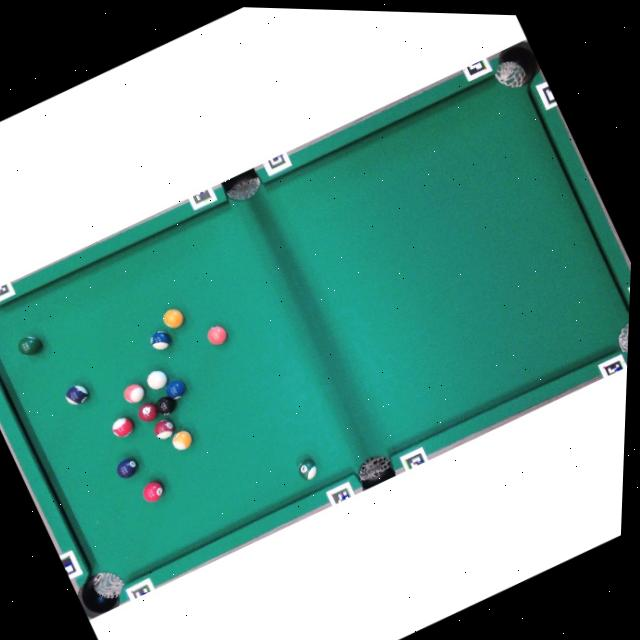cue ball: (143, 366, 172, 393)
other: (62, 381, 92, 410), (293, 455, 322, 484), (15, 331, 45, 359), (108, 414, 137, 442), (113, 455, 142, 482), (152, 392, 180, 419), (120, 380, 148, 407), (163, 376, 190, 403), (160, 305, 187, 332), (169, 427, 196, 454), (204, 322, 231, 349), (140, 478, 167, 505), (147, 327, 174, 354), (134, 399, 161, 425), (151, 416, 178, 442)
